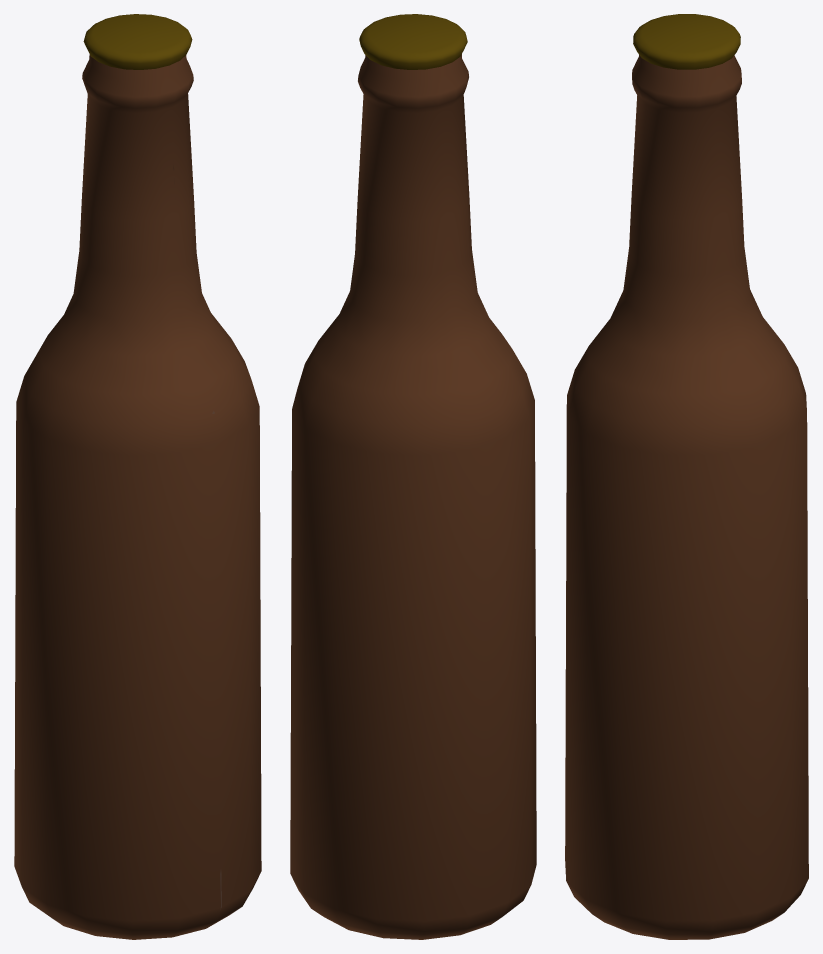
The model's file is SM_Bottle03.fbx.
The picture shows the model from 3 angles, left to right: view 1: azimuth 30°, elevation 25°; view 2: azimuth 150°, elevation 25°; view 3: azimuth 270°, elevation 25°; orthographic projection.
Parts seen in each view (by area): view 1: SM_Bottle03_LOD0; view 2: SM_Bottle03_LOD0; view 3: SM_Bottle03_LOD0.
Boxes of the visible parts, bbox=[...] form: SM_Bottle03_LOD0: bbox=[14, 14, 261, 939]; SM_Bottle03_LOD0: bbox=[290, 14, 536, 939]; SM_Bottle03_LOD0: bbox=[565, 14, 808, 939].
Size of the model in its own units: 7.32 by 7.32 by 28.74.
Materials: 1 (1 with a texture image).
